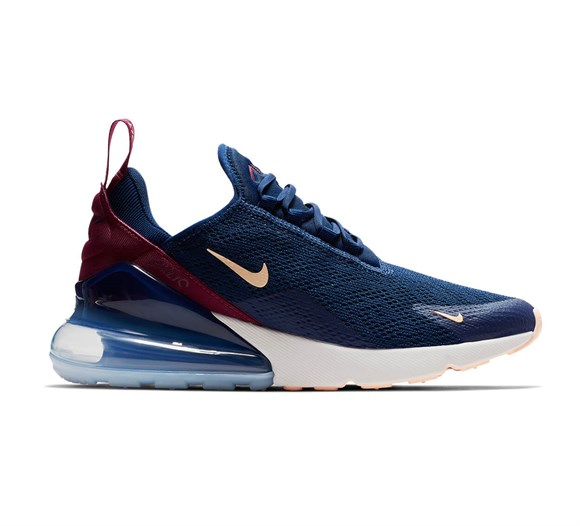nike: (205, 247, 272, 290), (432, 308, 465, 325)
